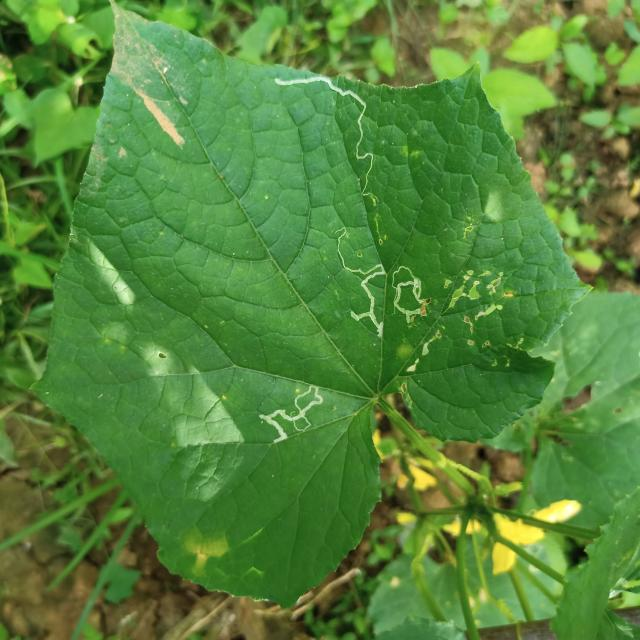disease_cucumber: (182, 537, 230, 582)
